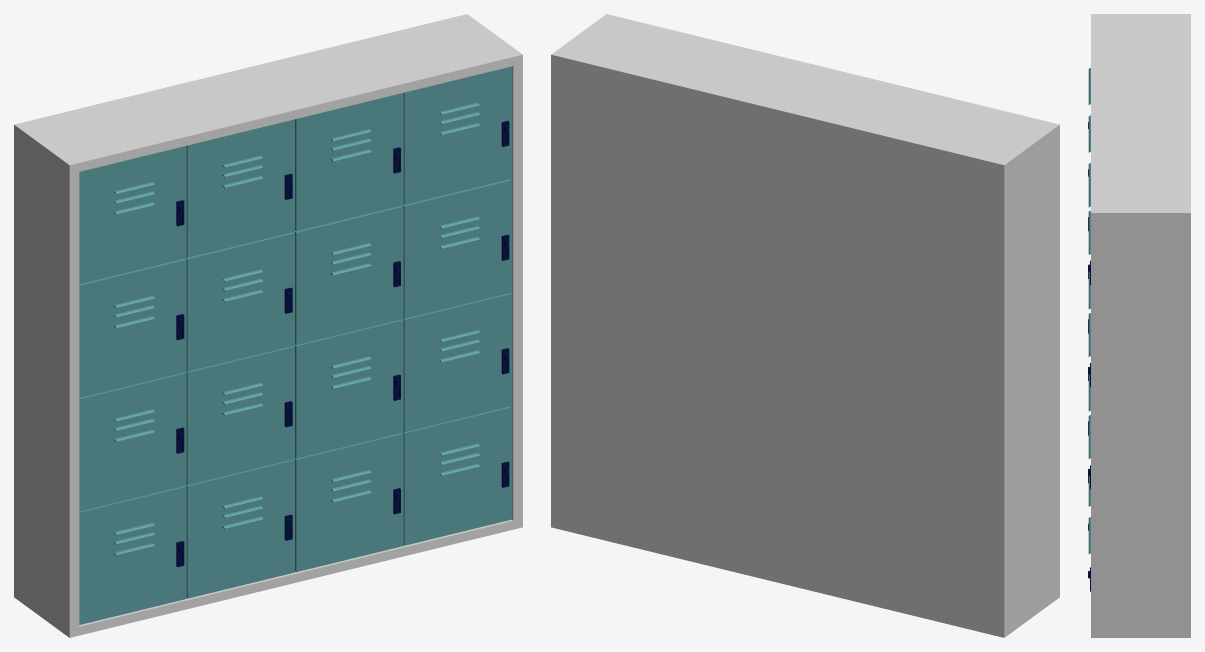
The model's file is Lockers .fbx.
The picture shows the model from 3 angles, left to right: view 1: azimuth 30°, elevation 25°; view 2: azimuth 150°, elevation 25°; view 3: azimuth 270°, elevation 25°; orthographic projection. The views are drawn at different scales.
Visible parts, largest first — view 1: Locker1 (×16), LOcker_base; view 2: LOcker_base; view 3: LOcker_base.
Part boxes in pixels (bbox=[...]): Locker1 (×16): bbox=[79, 66, 511, 624]; LOcker_base: bbox=[14, 14, 522, 637]; LOcker_base: bbox=[551, 14, 1059, 637]; LOcker_base: bbox=[1091, 14, 1190, 637].
Size of the model in its own units: 22.64 by 22.57 by 4.95.
